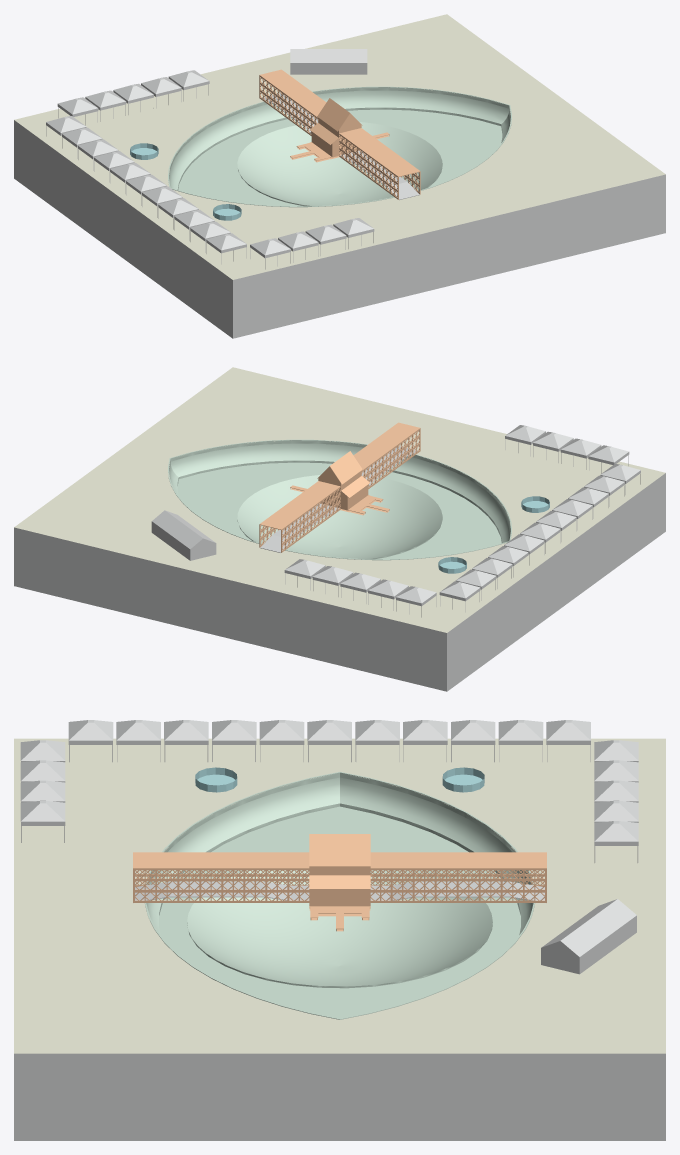
The model's file is transdec.dae.
The picture shows the model from 3 angles, top to bottom: view 1: azimuth 30°, elevation 25°; view 2: azimuth 150°, elevation 25°; view 3: azimuth 270°, elevation 25°; orthographic projection. The views are drawn at different scales.
Parts seen in each view (by area): view 1: ground, container, canopies, parabola, pool_floor, bridge_support, pool_slope, pool_ledge, bridge_walkway, ring_pools; view 2: ground, container, canopies, parabola, pool_floor, bridge_support, pool_slope, pool_ledge, bridge_walkway, ring_pools; view 3: ground, container, canopies, parabola, bridge_support, pool_floor, pool_slope, bridge_walkway, pool_ledge, ring_pools, parabola_ledge.
Boxes of the visible parts, <box> form: ground: <box>14,14,665,279</box>; container: <box>14,120,665,338</box>; canopies: <box>46,49,374,269</box>; parabola: <box>237,122,442,206</box>; pool_floor: <box>178,109,502,206</box>; bridge_support: <box>259,69,420,199</box>; pool_slope: <box>169,90,510,189</box>; pool_ledge: <box>168,86,511,207</box>; bridge_walkway: <box>262,93,419,199</box>; ring_pools: <box>130,143,241,220</box>; ground: <box>14,367,665,632</box>; container: <box>14,473,665,691</box>; canopies: <box>151,425,640,617</box>; parabola: <box>237,475,442,559</box>; pool_floor: <box>177,462,501,559</box>; bridge_support: <box>259,422,420,552</box>; pool_slope: <box>169,443,510,542</box>; pool_ledge: <box>168,439,511,560</box>; bridge_walkway: <box>260,446,417,552</box>; ring_pools: <box>438,496,549,573</box>; ground: <box>14,738,665,1053</box>; container: <box>14,1053,665,1140</box>; canopies: <box>20,720,638,974</box>; parabola: <box>187,870,492,986</box>; bridge_support: <box>133,834,546,931</box>; pool_floor: <box>159,806,520,1018</box>; pool_slope: <box>146,777,533,934</box>; bridge_walkway: <box>135,881,544,900</box>; pool_ledge: <box>144,772,535,1019</box>; ring_pools: <box>195,767,484,792</box>; parabola_ledge: <box>187,922,492,988</box>.
Size of the model in its own units: 117 by 102 by 25.89.
